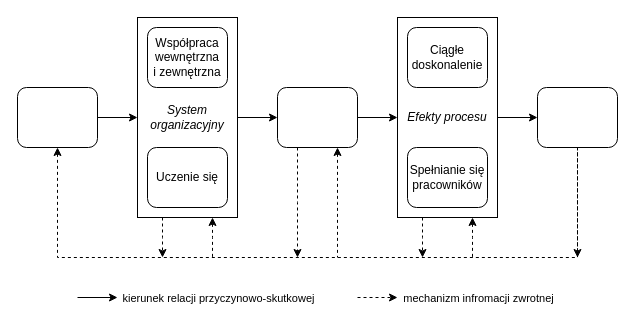
This 635x323 diagram has some shape labels left out. The centre of each missing label's shape, as x and y in pixels:
"Satysfakcja klientów" belongs at point (577, 117).
"Wizjonerskie przywództwo" belongs at point (57, 117).
"Zarządzanie procesami" belongs at point (317, 117).
